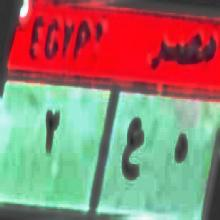2: (44, 105, 63, 158)
ain: (123, 108, 142, 189)
haa: (171, 132, 189, 172)
